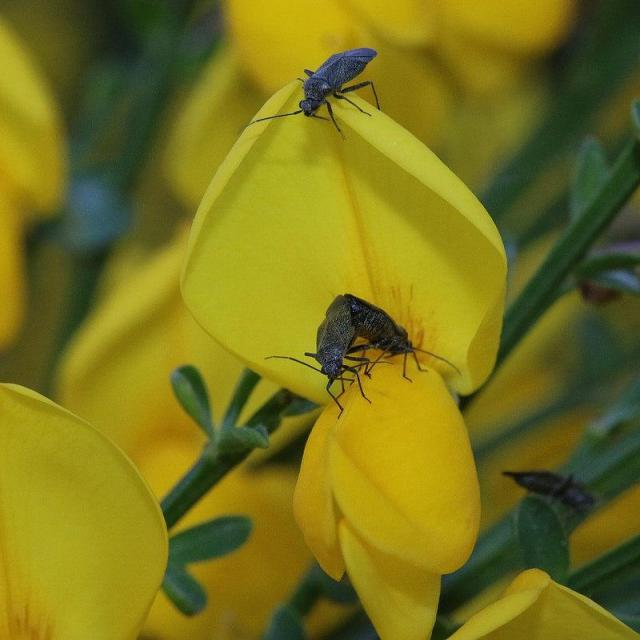Miridae-Adult-: (257, 42, 389, 136), (344, 290, 451, 382), (293, 292, 358, 415)
